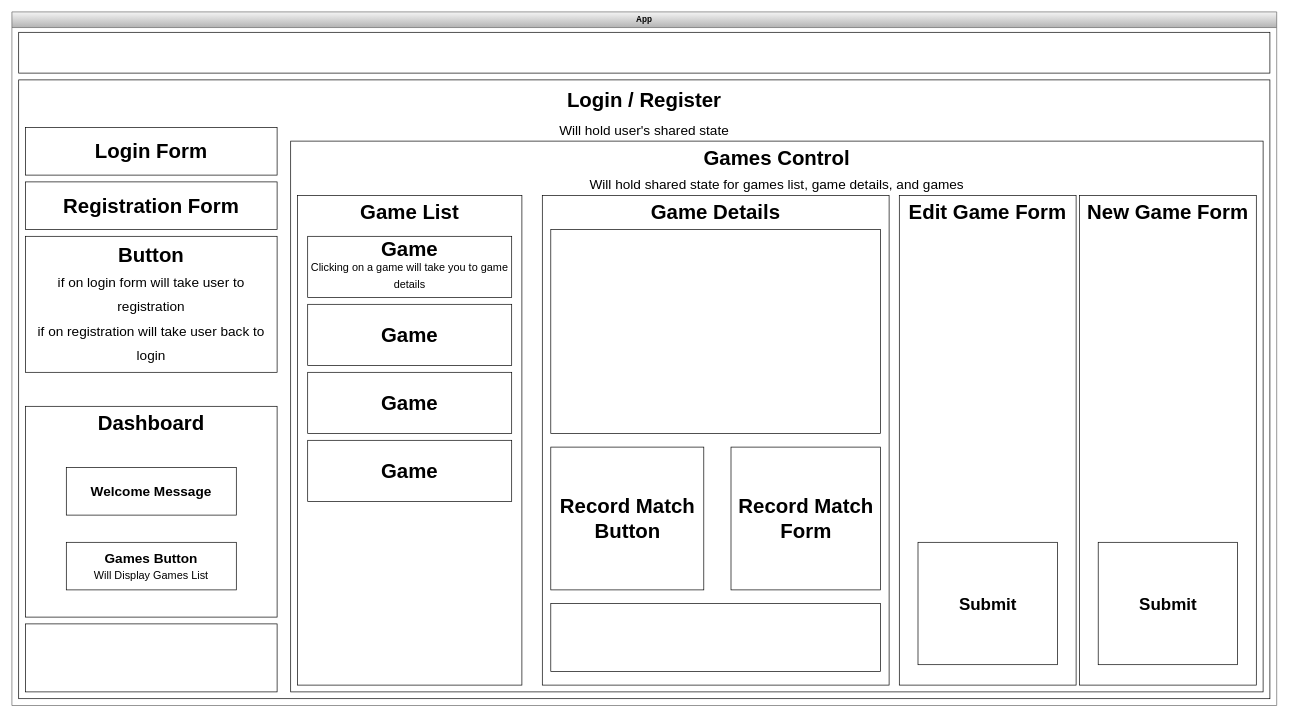
This 1289x717 diagram has some shape labels left out. Here are the shapes that lost their labels. From the top down, the centre of each, then its label:
At point (644, 52): "Header".
At point (715, 331): "Leaderboard".
At point (151, 657): "Log Out Button".
At point (715, 637): "Edit Game Button".
